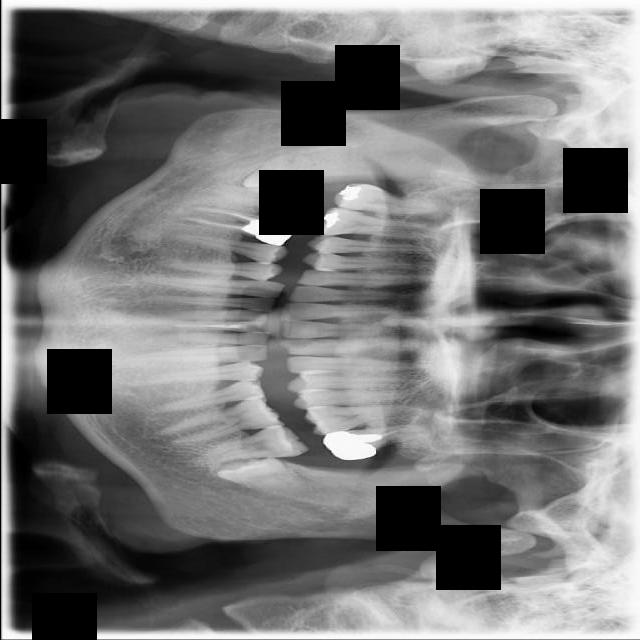52: (317, 422, 377, 474), (252, 203, 301, 254), (312, 204, 368, 238), (332, 181, 385, 212), (269, 188, 321, 217)
73: (176, 201, 265, 240), (345, 417, 436, 455), (55, 598, 64, 604)
BioHorizons Implant: (320, 417, 437, 465)
Biomet 3i Implant: (214, 439, 313, 510)
Blue Sky Bio Implant: (194, 423, 309, 465)
Caries: (331, 180, 438, 218)
Implant: (202, 182, 322, 219)
Keystone Dental Implant: (241, 152, 313, 194)
